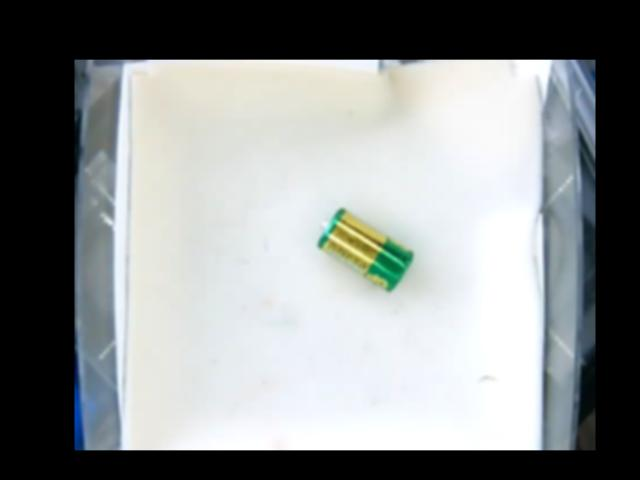Battery: (314, 206, 414, 293)
